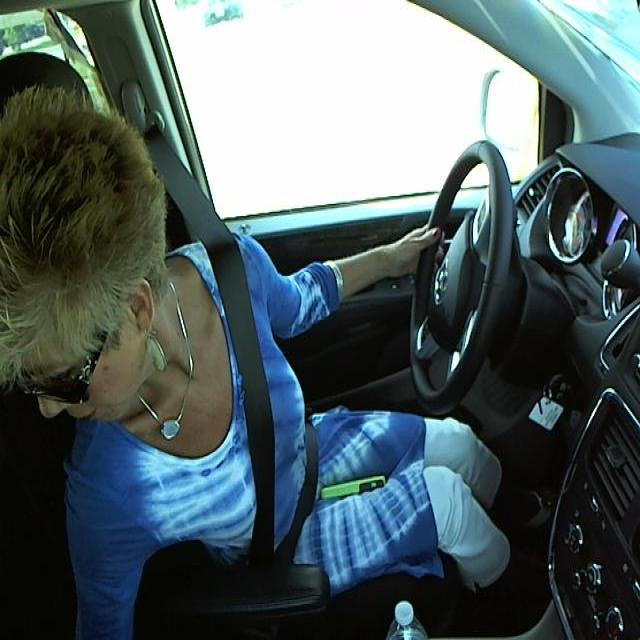seatbelt: (208, 259, 322, 549)
